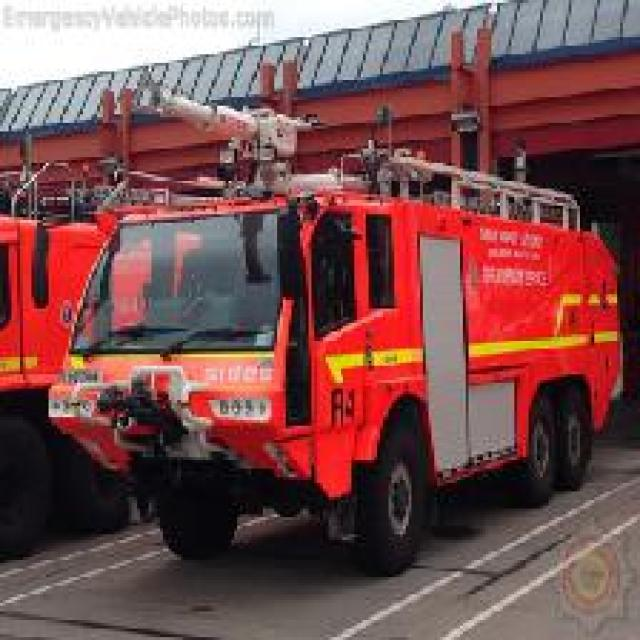Fire-truck: (37, 80, 626, 577)
